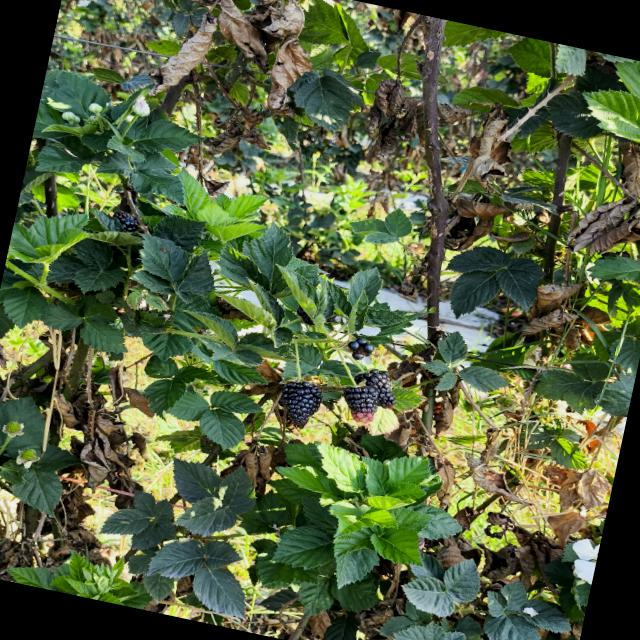boton: (62, 111, 80, 124), (88, 103, 102, 114)
flor: (571, 538, 599, 561)
maduro: (279, 381, 322, 427), (354, 368, 395, 409), (114, 210, 137, 232)
marron: (343, 385, 378, 423)
